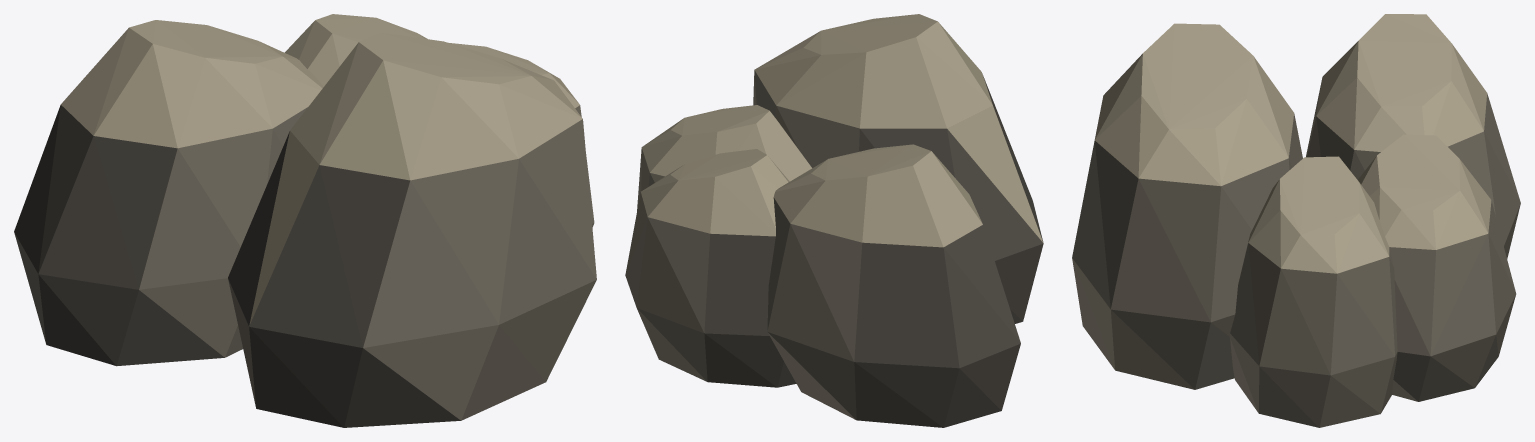
The model's file is TW_ROCK_CLUSTER_SMALL_B_LOD0.glb.
The picture shows the model from 3 angles, left to right: view 1: azimuth 30°, elevation 25°; view 2: azimuth 150°, elevation 25°; view 3: azimuth 270°, elevation 25°; orthographic projection. The views are drawn at different scales.
Parts seen in each view (by area): view 1: TW_ROCK_CLUSTER_SMALL_B_LOD0; view 2: TW_ROCK_CLUSTER_SMALL_B_LOD0; view 3: TW_ROCK_CLUSTER_SMALL_B_LOD0.
Part boxes in pixels (left/top/right/bottom): TW_ROCK_CLUSTER_SMALL_B_LOD0: left=14, top=14, right=596, bottom=427; TW_ROCK_CLUSTER_SMALL_B_LOD0: left=625, top=14, right=1043, bottom=427; TW_ROCK_CLUSTER_SMALL_B_LOD0: left=1072, top=14, right=1520, bottom=427.
Size of the model in its own units: 1.4 by 0.8749 by 1.22.
Materials: 1 (1 with a texture image).
